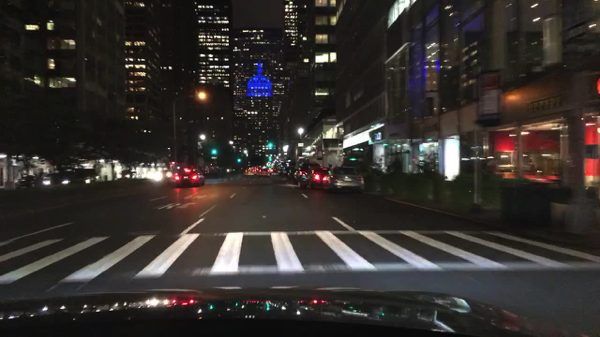car: (320, 166, 365, 194), (292, 161, 321, 184), (175, 166, 205, 188), (305, 167, 330, 188), (67, 169, 99, 185), (40, 173, 72, 185), (13, 175, 42, 188), (118, 169, 140, 180), (148, 170, 165, 181), (258, 167, 271, 177), (286, 169, 297, 180), (243, 167, 255, 177), (283, 166, 291, 175), (271, 169, 280, 176), (277, 166, 283, 173)
traffic light: (267, 140, 272, 148), (267, 153, 272, 161), (236, 156, 241, 163), (211, 147, 215, 154)
traffic sign: (477, 73, 502, 119), (297, 140, 304, 147), (211, 155, 217, 160)
